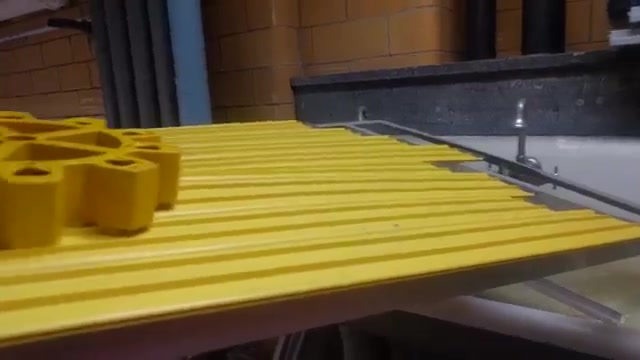gear: (2, 90, 182, 269)
